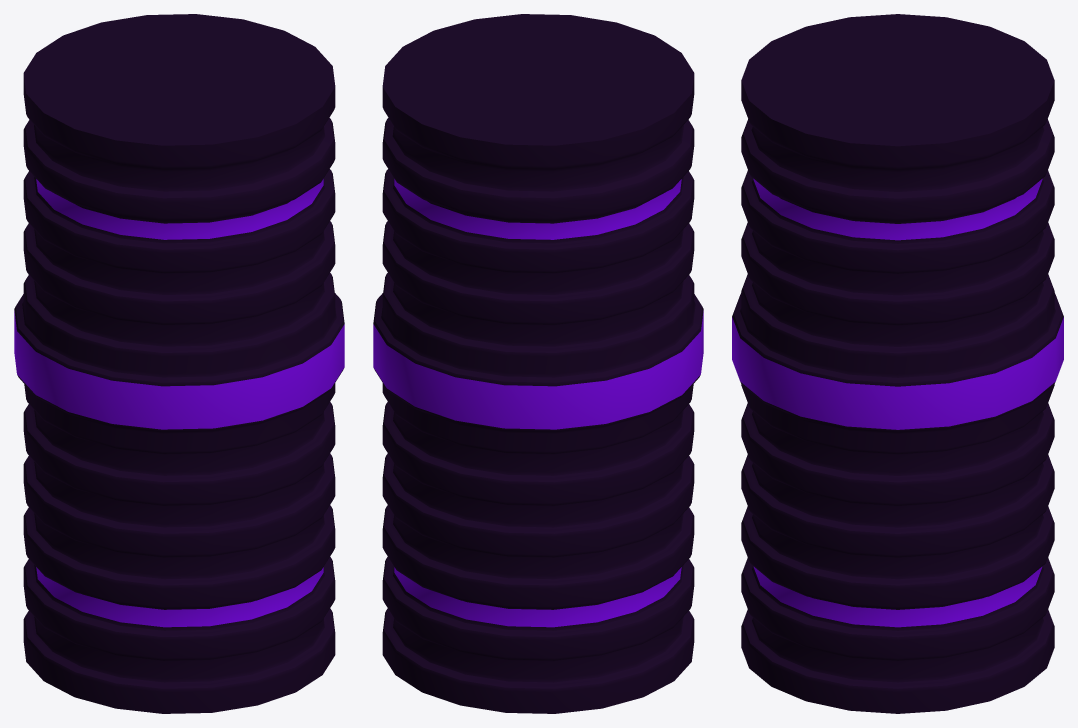
The model's file is pillarPurple.fbx.
3 views of the same model, side by side, from view 1: azimuth 30°, elevation 25°; view 2: azimuth 150°, elevation 25°; view 3: azimuth 270°, elevation 25° (orthographic).
Visible parts, largest first — view 1: pCylinder1; view 2: pCylinder1; view 3: pCylinder1.
Boxes of the visible parts, bbox=[...] form: pCylinder1: bbox=[14, 14, 344, 713]; pCylinder1: bbox=[373, 14, 703, 713]; pCylinder1: bbox=[732, 14, 1063, 713].
Bounding box in the file's own units: 2.12 × 4 × 2.12.
